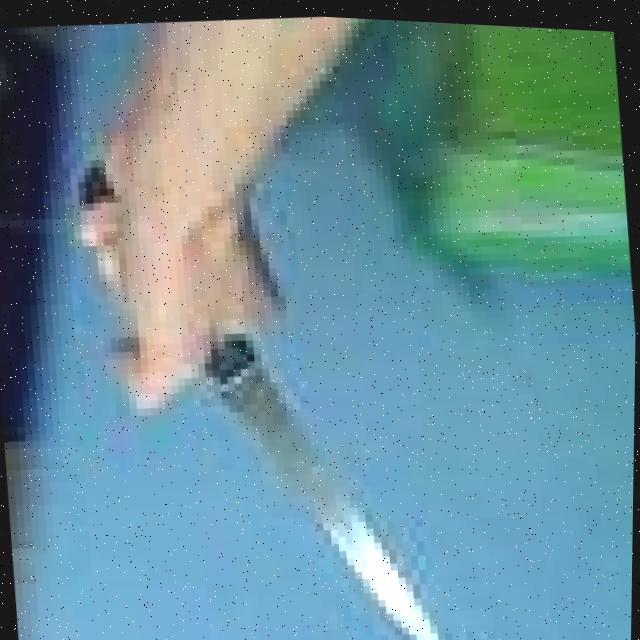knife: (192, 318, 457, 640)
